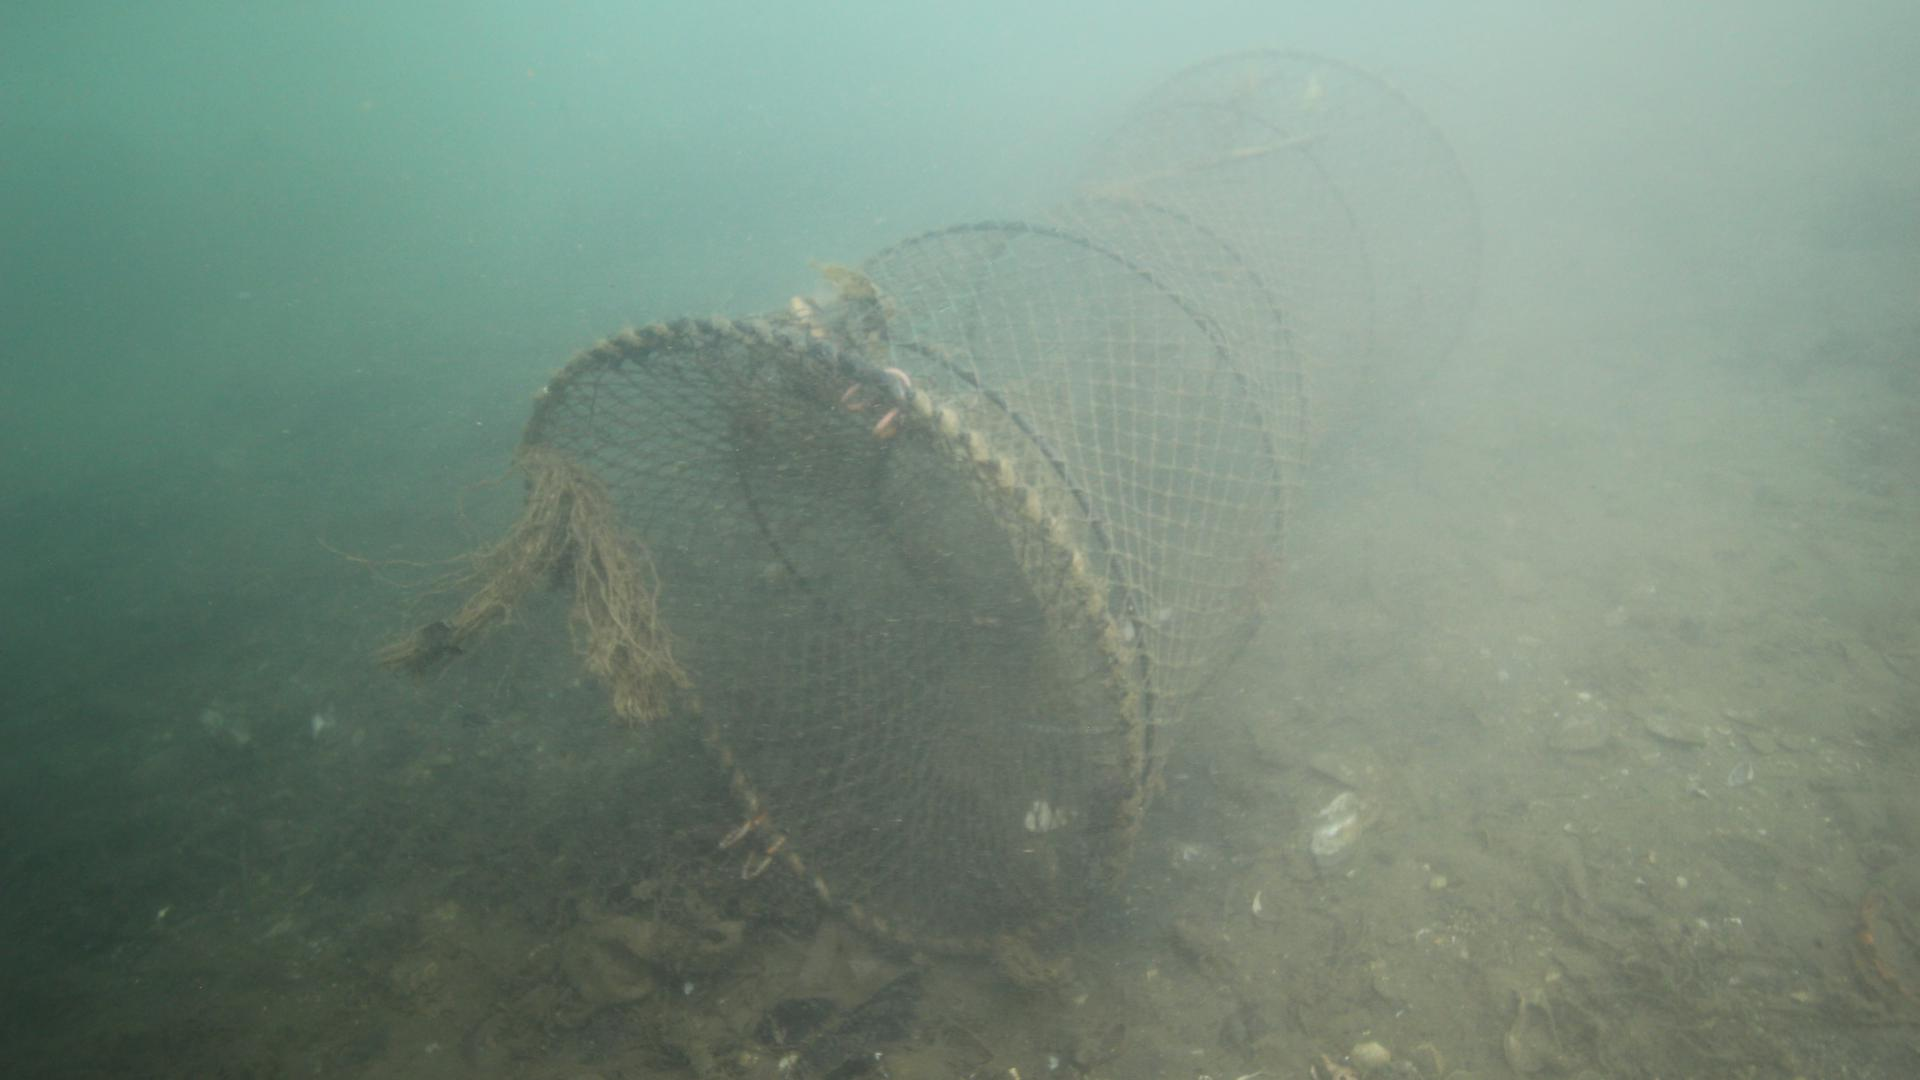spring fish trap: (520, 50, 1484, 957)
